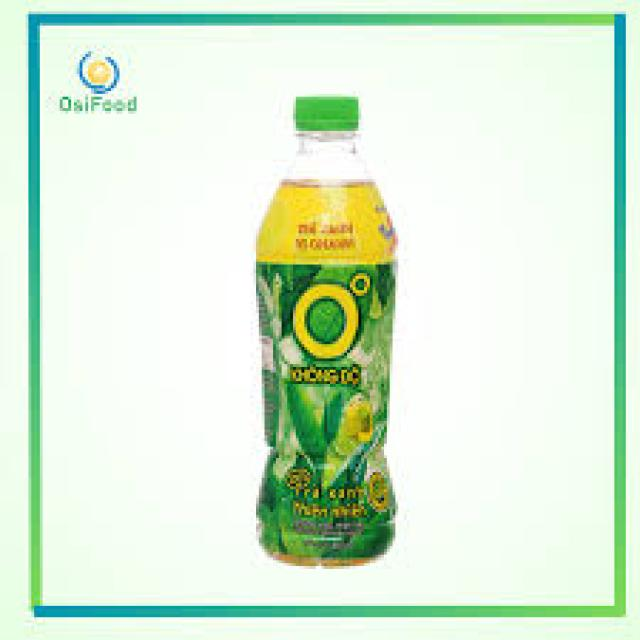tra xanh khong do: (240, 95, 422, 572)
